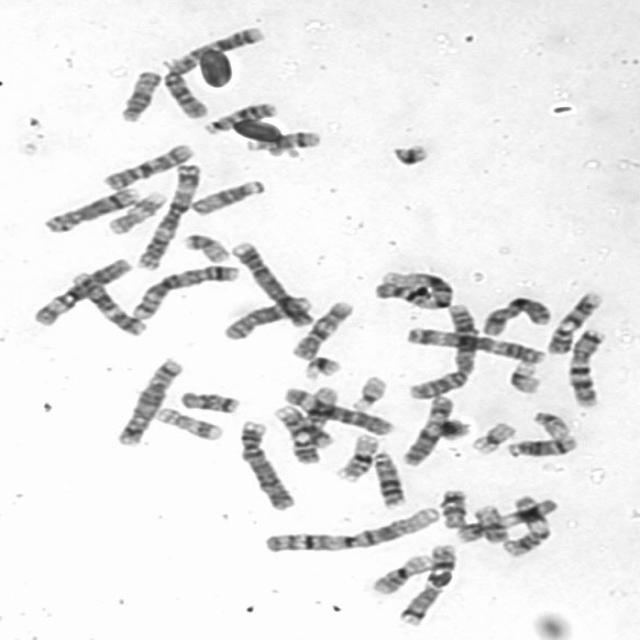A1: (256, 500, 443, 554), (370, 266, 458, 311)
A2: (156, 21, 267, 120), (404, 299, 482, 401)
A3: (131, 159, 202, 270), (401, 324, 549, 364)
B4: (228, 237, 316, 328), (234, 415, 299, 512)
B5: (112, 353, 187, 447), (127, 260, 242, 320)
C10: (98, 139, 198, 192), (287, 296, 356, 361)
C11: (452, 494, 560, 544), (498, 492, 558, 558)
C12: (67, 266, 151, 337), (282, 383, 342, 466)
C6: (29, 252, 135, 327), (277, 382, 397, 436)
C7: (394, 538, 461, 626), (563, 324, 610, 408)
C8: (38, 182, 143, 234), (218, 292, 313, 341)
C9: (542, 286, 606, 356), (268, 402, 336, 449)
D13: (200, 99, 278, 135), (368, 447, 409, 509)
D14: (501, 430, 582, 459), (241, 128, 323, 152)
D15: (185, 174, 268, 217), (114, 66, 164, 124)
E16: (368, 550, 434, 595), (331, 430, 382, 482)
E17: (101, 187, 168, 235), (152, 403, 226, 442)
E18: (175, 386, 242, 414), (434, 485, 471, 530)
F19: (466, 418, 518, 456), (504, 357, 543, 395)
F20: (468, 500, 511, 544), (178, 229, 232, 264)
G21: (385, 138, 433, 167), (298, 352, 344, 380)
G22: (346, 370, 389, 410), (527, 407, 573, 439)
X: (397, 391, 457, 467), (476, 291, 555, 337)
